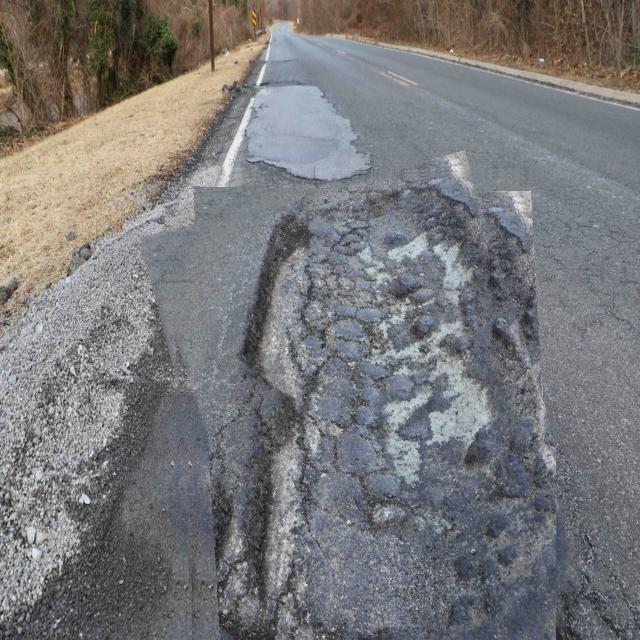Pothole: (165, 168, 556, 640)
